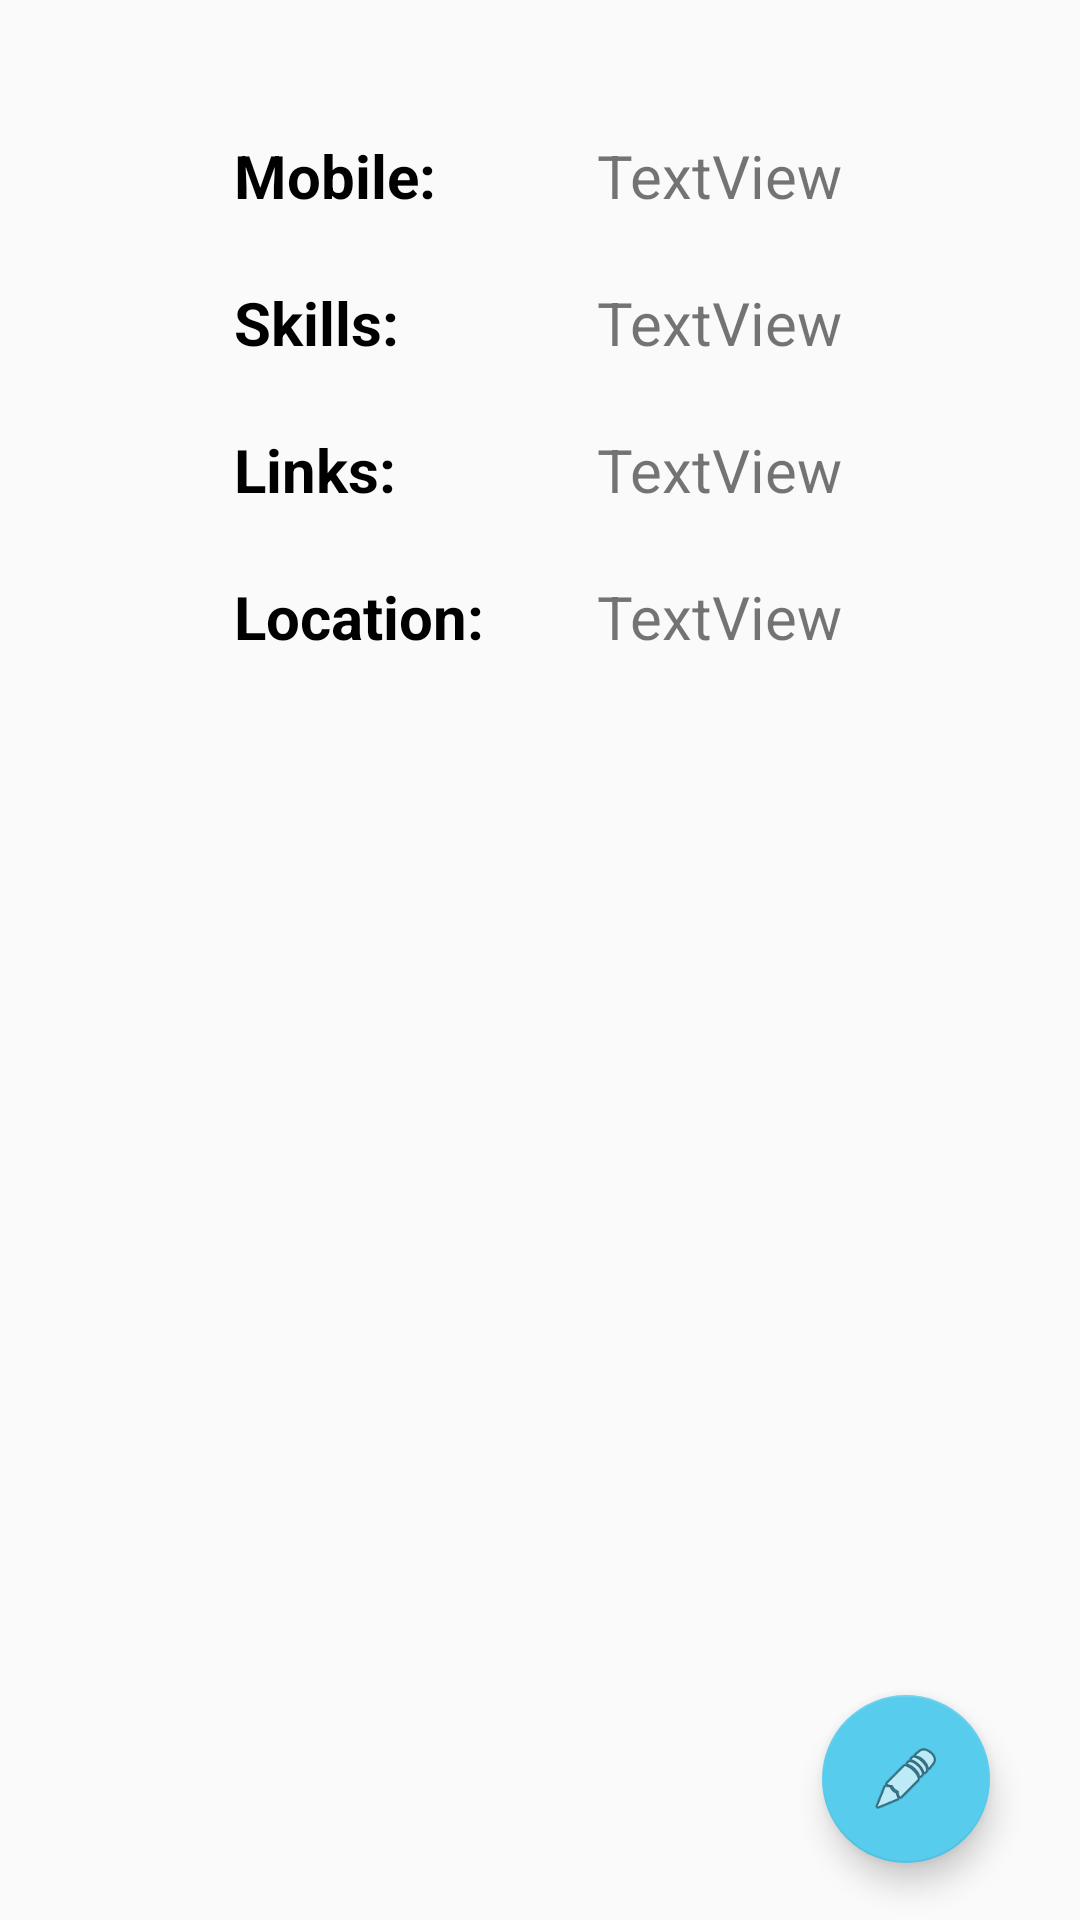

Locate icon controls on the screen. Image size 1080px x 1920px, boxes as (x1, y1, x2, y2).
edit: (822, 1695, 990, 1863)
